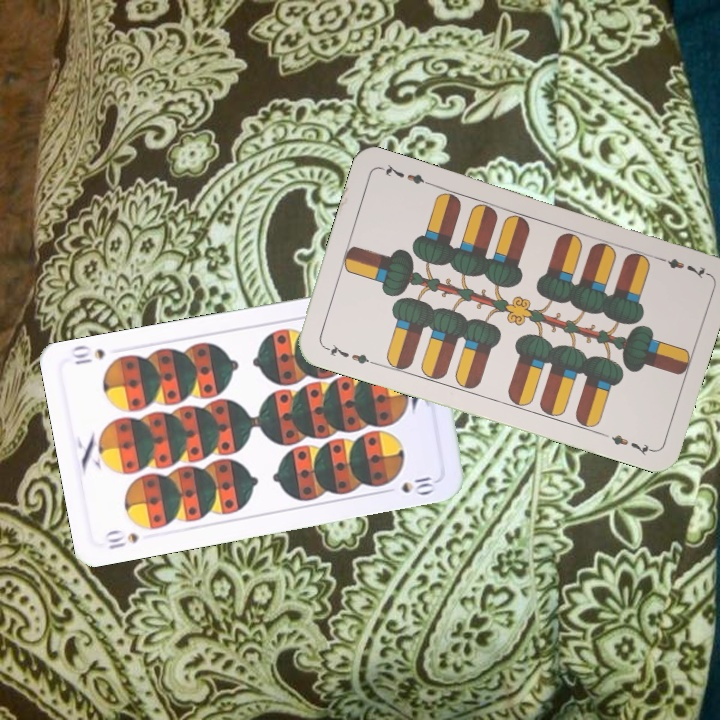E7: (652, 252, 710, 282), (320, 339, 378, 368)
S10: (100, 526, 142, 552)
